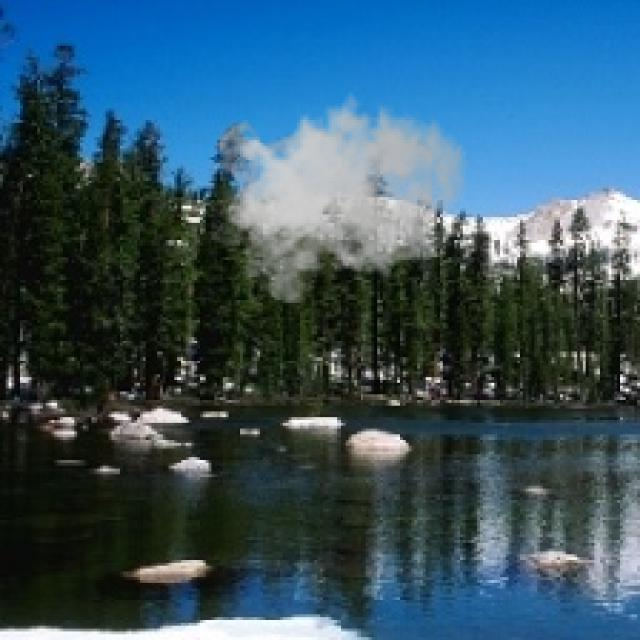smoke: (212, 83, 468, 303)
